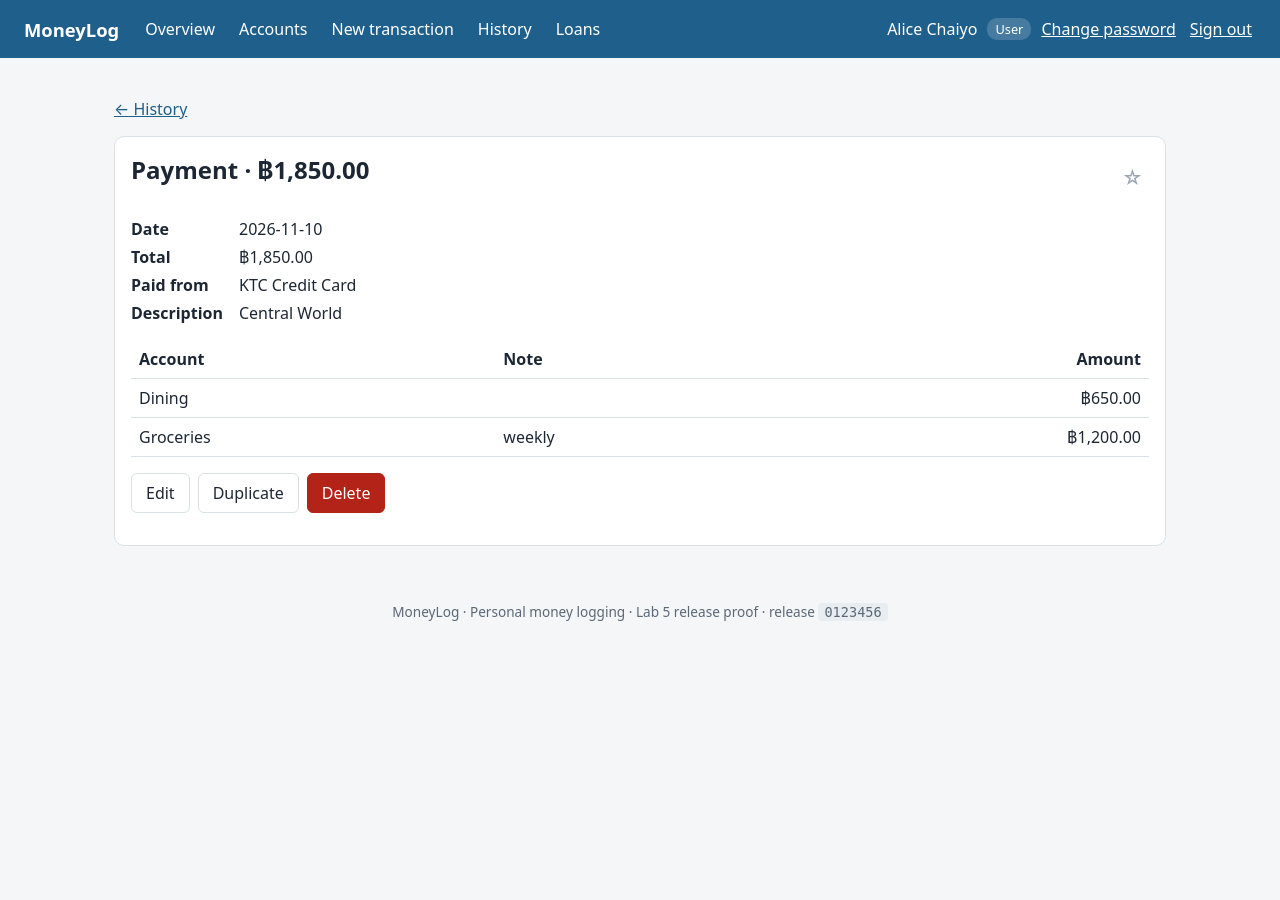
Test: TEST-77 edit and delete from the detail page (AC-57) › Edit opens the form pre-filled and Save changes sends a PUT
Click the link "Edit" at (160, 493), box x1=131 y1=473 x2=190 y2=513
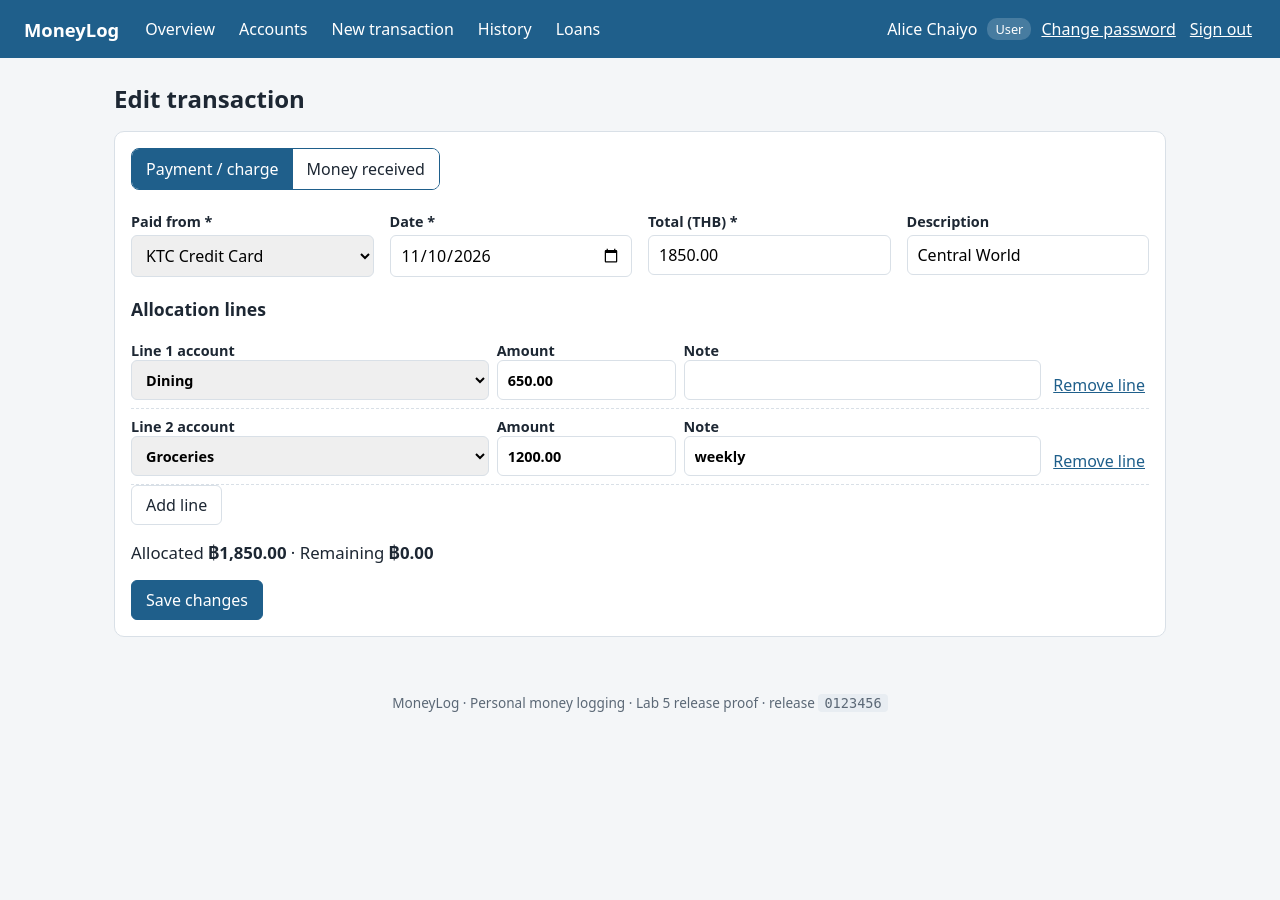
Check: the heading "Edit transaction" is shown, box x1=114 y1=82 x2=305 y2=115
Check: the dropdown labelled "Paid from *" shows "KTC Credit Card", box x1=131 y1=235 x2=374 y2=277
Check: the field labelled "Total (THB) *" holds "1850.00"
Replace the text in the field labelled "Total (THB) *" with "1650" at (769, 255), box x1=648 y1=235 x2=890 y2=275
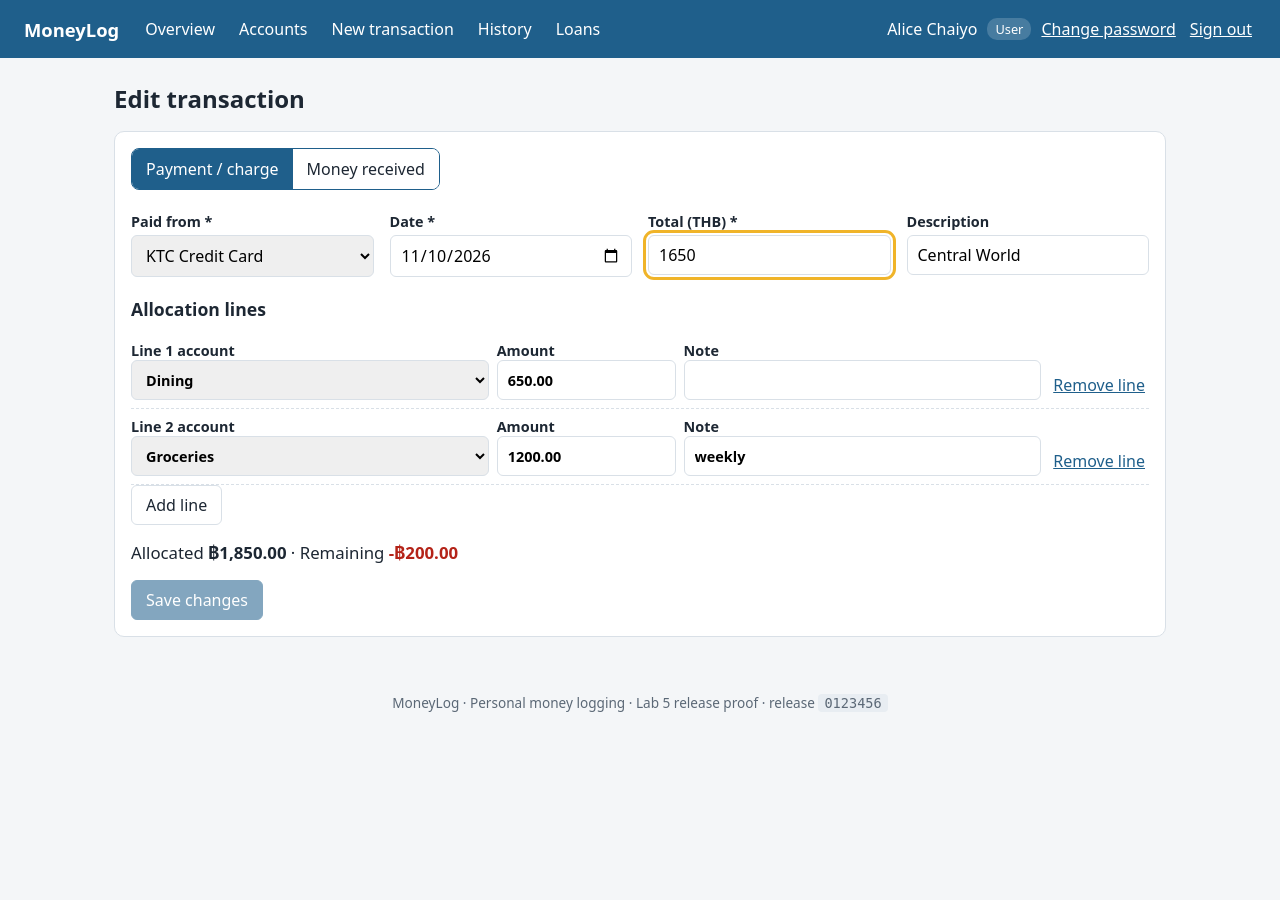
Replace the text in the field named "Line 2 amount" with "1000" at (586, 456), box x1=497 y1=436 x2=676 y2=476
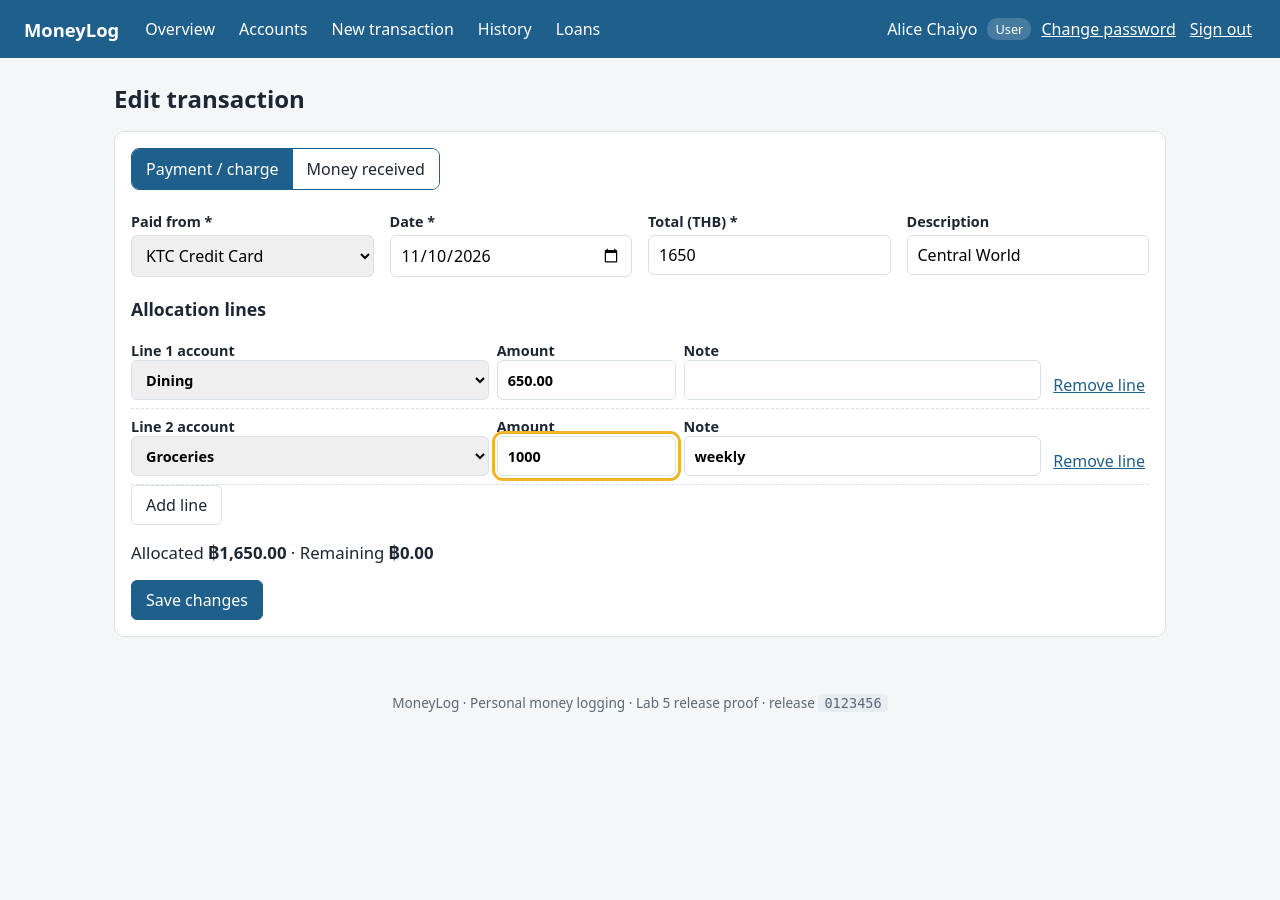
Click the button "Save changes" at (197, 600), box x1=131 y1=580 x2=263 y2=620
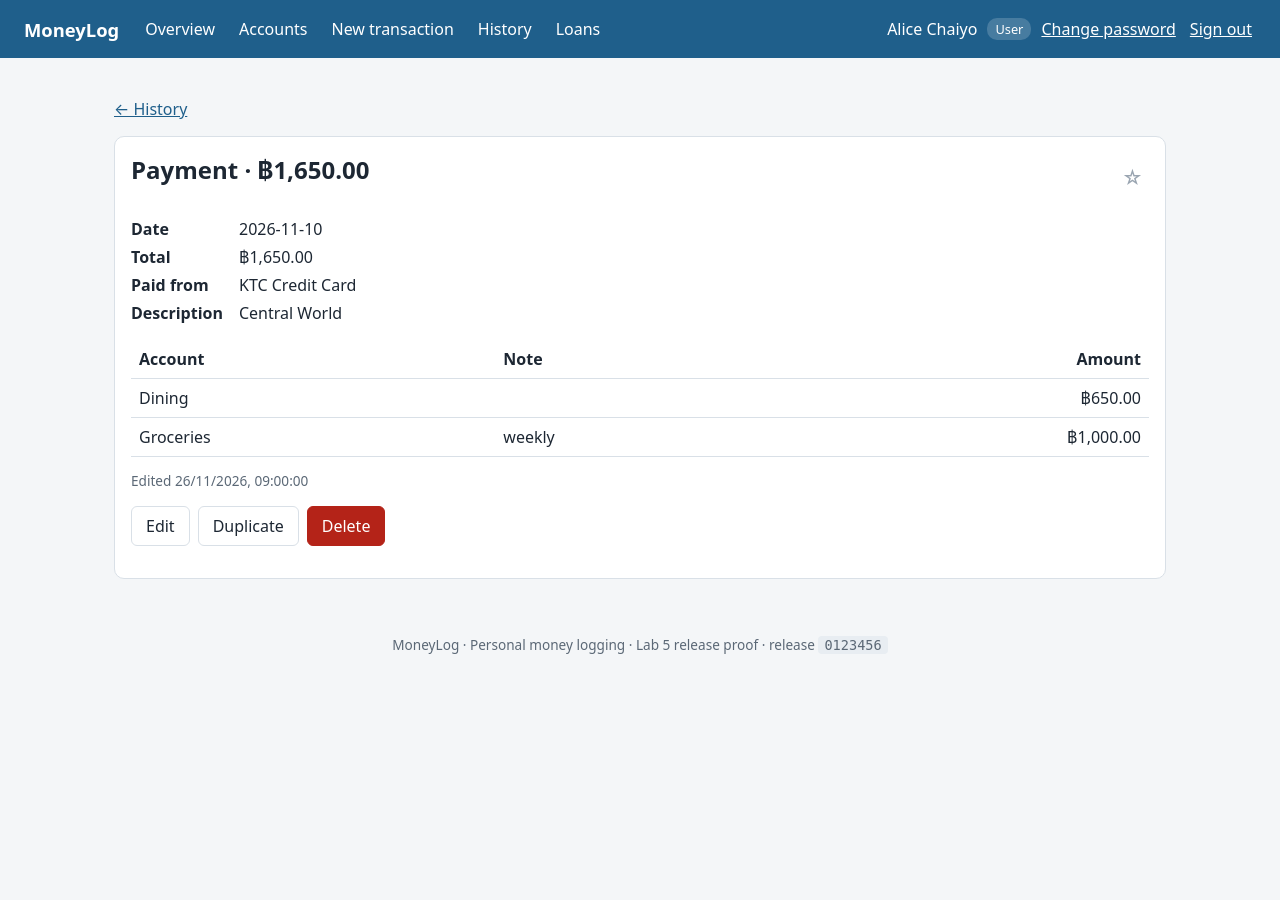
Check: the text "฿1,650.00" next to "Total" is shown, box x1=239 y1=246 x2=313 y2=268
